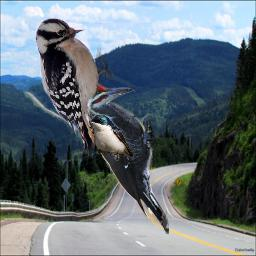Swallow: (90, 114, 134, 161)
Woodpecker: (70, 82, 169, 234), (35, 18, 115, 154)
